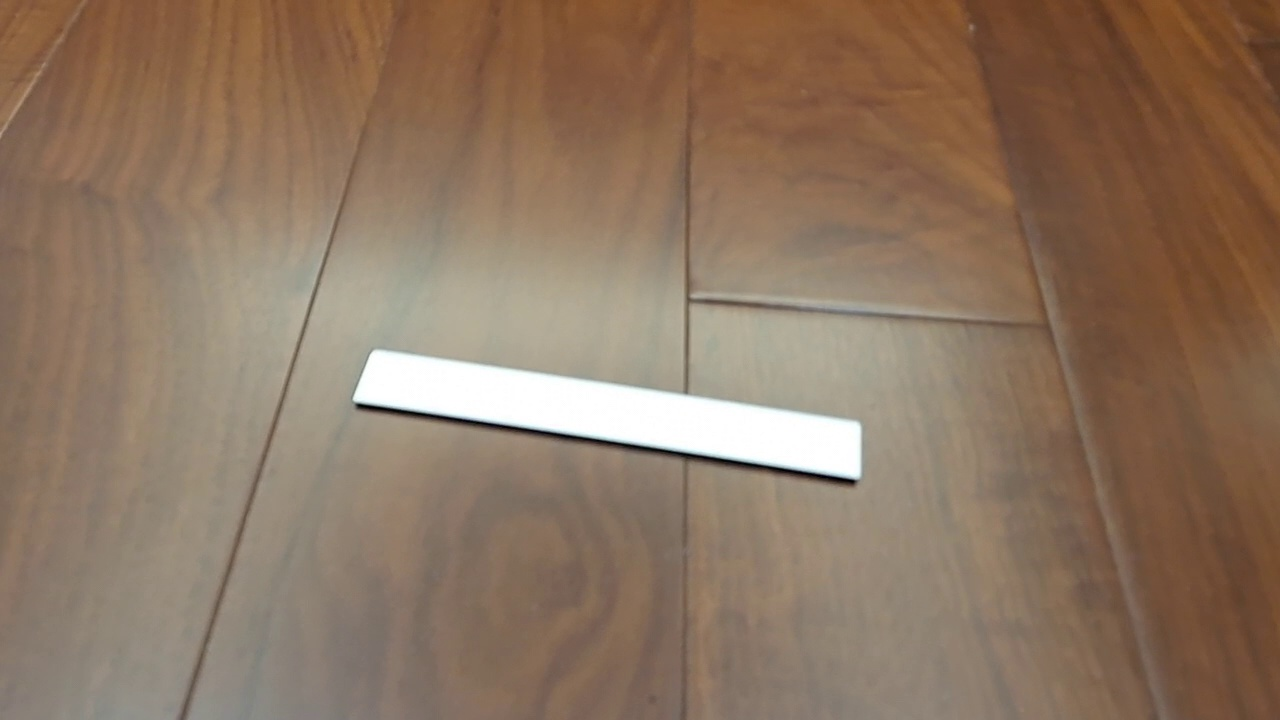ruler: (351, 347, 863, 484)
